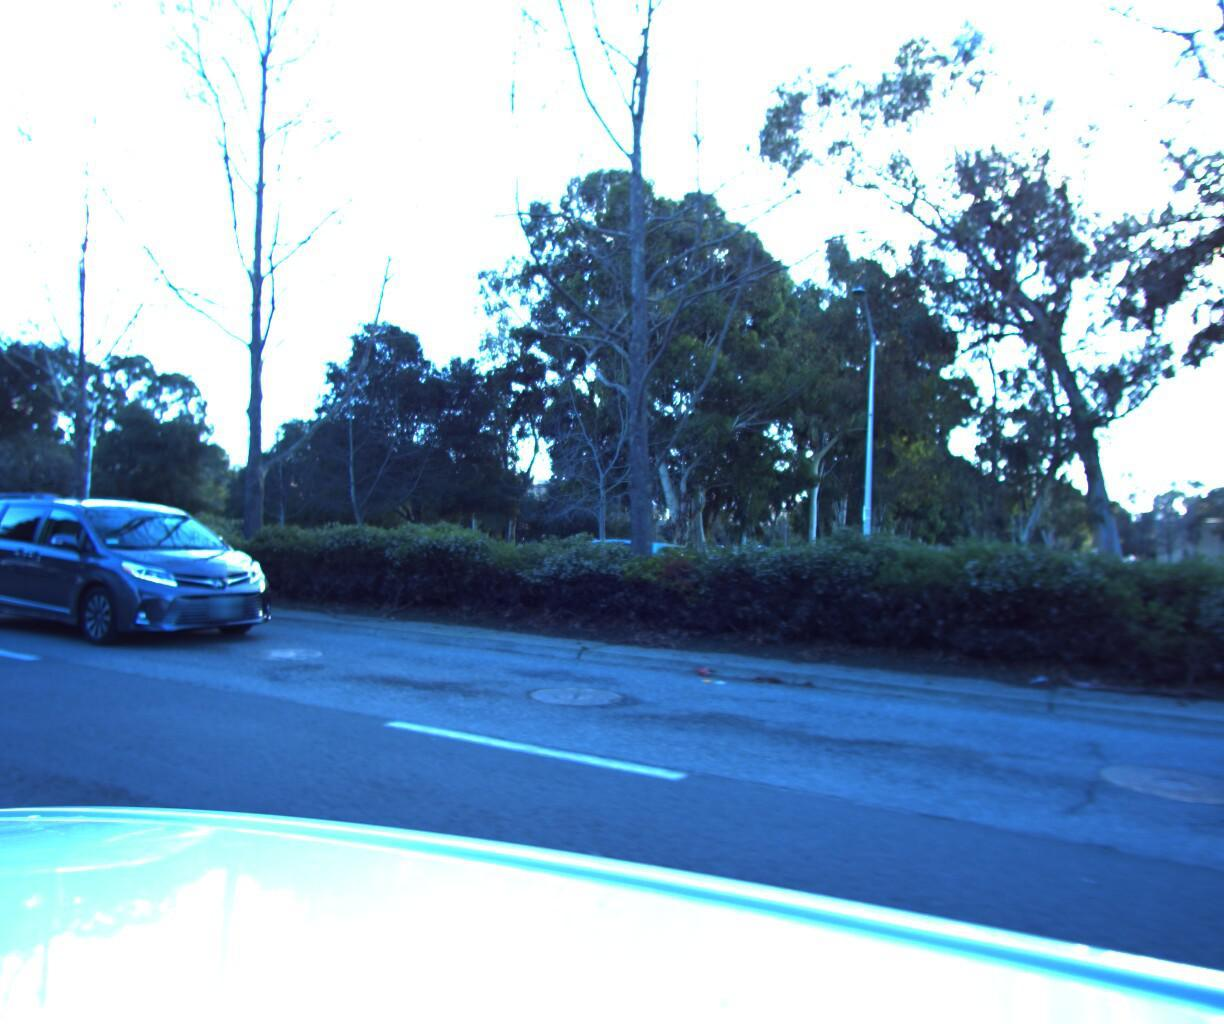bus: (0, 493, 116, 552)
car: (0, 482, 302, 656), (513, 528, 705, 603)
